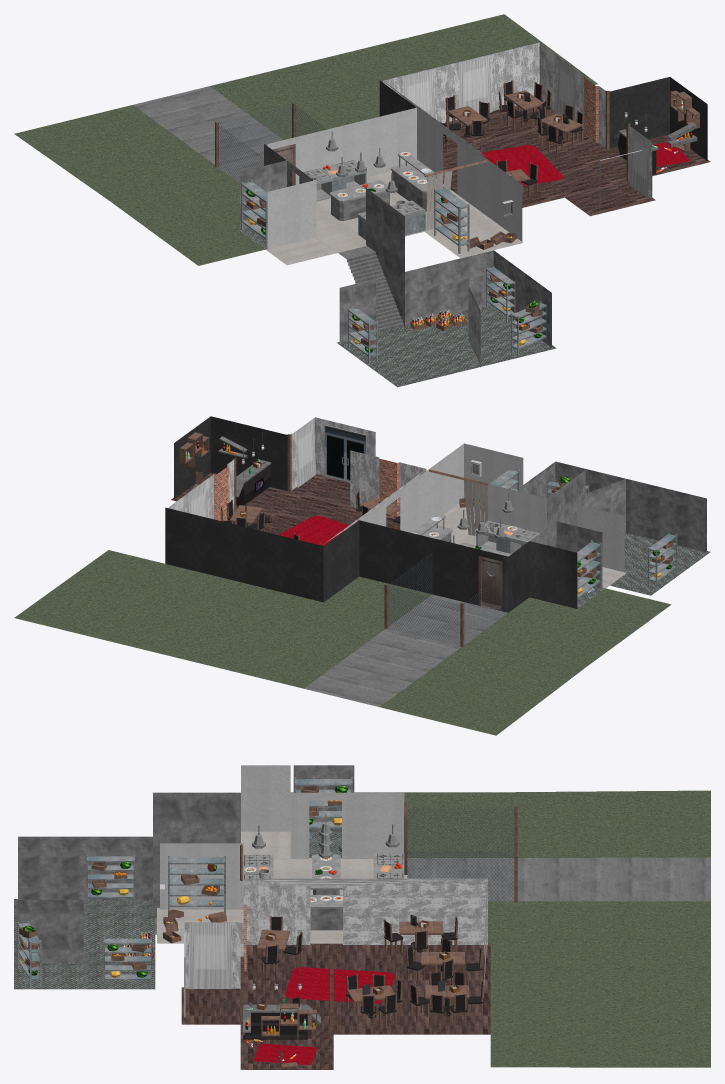
3 views of the same model, one above another, from view 1: azimuth 30°, elevation 25°; view 2: azimuth 150°, elevation 25°; view 3: azimuth 270°, elevation 25° (orthographic). The views are drawn at different scales.
Parts seen in each view (by area): view 1: floor, walls, room decor 2, windows, room decor 1, basement decor, street decor, table for food, stoves, food room decor 1, stairs, player room decor (+2 smaller); view 2: floor, walls, street decor, room decor 1, windows, room decor 2, basement decor, food room decor 2, player room decor, stoves, table for food, food room decor 1 (+1 smaller); view 3: floor, walls, room decor 2, room decor 1, street decor, basement decor, windows, food room decor 1, table for food, player room decor, stoves, lamps (+1 smaller).
Boxes of the visible parts, x1=… form: floor: x1=14, y1=14, x2=710, y2=387; walls: x1=240, y1=42, x2=707, y2=367; room decor 2: x1=440, y1=80, x2=583, y2=196; windows: x1=403, y1=55, x2=650, y2=197; room decor 1: x1=481, y1=90, x2=699, y2=185; basement decor: x1=348, y1=266, x2=546, y2=363; street decor: x1=215, y1=103, x2=325, y2=185; table for food: x1=329, y1=151, x2=443, y2=220; stoves: x1=299, y1=160, x2=425, y2=239; food room decor 1: x1=434, y1=186, x2=517, y2=253; stairs: x1=338, y1=246, x2=403, y2=332; player room decor: x1=241, y1=180, x2=267, y2=247; floor: x1=14, y1=472, x2=710, y2=735; walls: x1=165, y1=416, x2=706, y2=612; street decor: x1=384, y1=553, x2=507, y2=647; room decor 1: x1=179, y1=432, x2=348, y2=545; windows: x1=188, y1=419, x2=316, y2=517; room decor 2: x1=220, y1=490, x2=400, y2=545; basement decor: x1=546, y1=476, x2=677, y2=588; food room decor 2: x1=429, y1=469, x2=490, y2=535; player room decor: x1=577, y1=540, x2=601, y2=606; stoves: x1=475, y1=520, x2=542, y2=553; table for food: x1=412, y1=514, x2=511, y2=575; food room decor 1: x1=459, y1=460, x2=519, y2=511; floor: x1=14, y1=790, x2=710, y2=1069; walls: x1=18, y1=765, x2=487, y2=1017; room decor 2: x1=257, y1=914, x2=484, y2=1027; room decor 1: x1=240, y1=956, x2=394, y2=1068; street decor: x1=404, y1=802, x2=517, y2=901; basement decor: x1=17, y1=855, x2=153, y2=987; windows: x1=188, y1=894, x2=486, y2=998; food room decor 1: x1=160, y1=855, x2=225, y2=943; table for food: x1=310, y1=854, x2=342, y2=930; player room decor: x1=294, y1=777, x2=352, y2=852; stoves: x1=243, y1=853, x2=404, y2=878; lamps: x1=252, y1=814, x2=399, y2=857.
Size of the model in its own units: 15.81 by 3.51 by 16.67.
47 materials, 44 textured.
